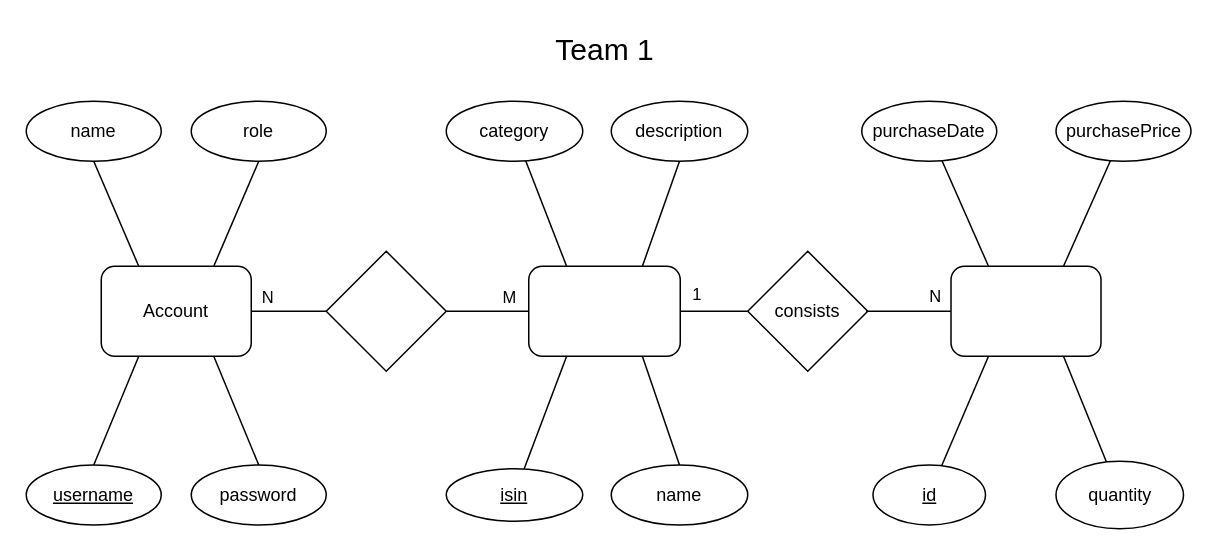
This 1218x555 diagram has some shape labels left out. The centre of each missing label's shape, as x and y in pixels:
"likes" belongs at point (385, 310).
"Purchase" belongs at point (1025, 310).
"Share" belongs at point (603, 310).
